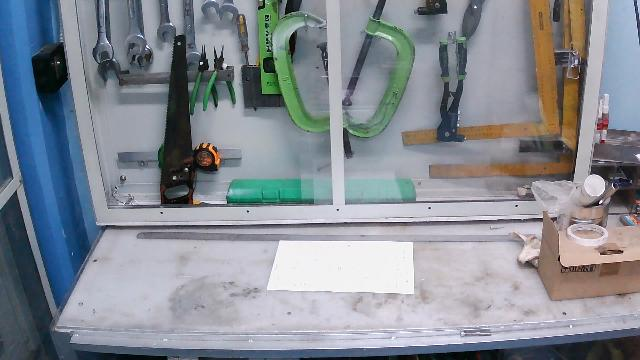tang_cucut_lancip_1: (209, 41, 238, 108)
